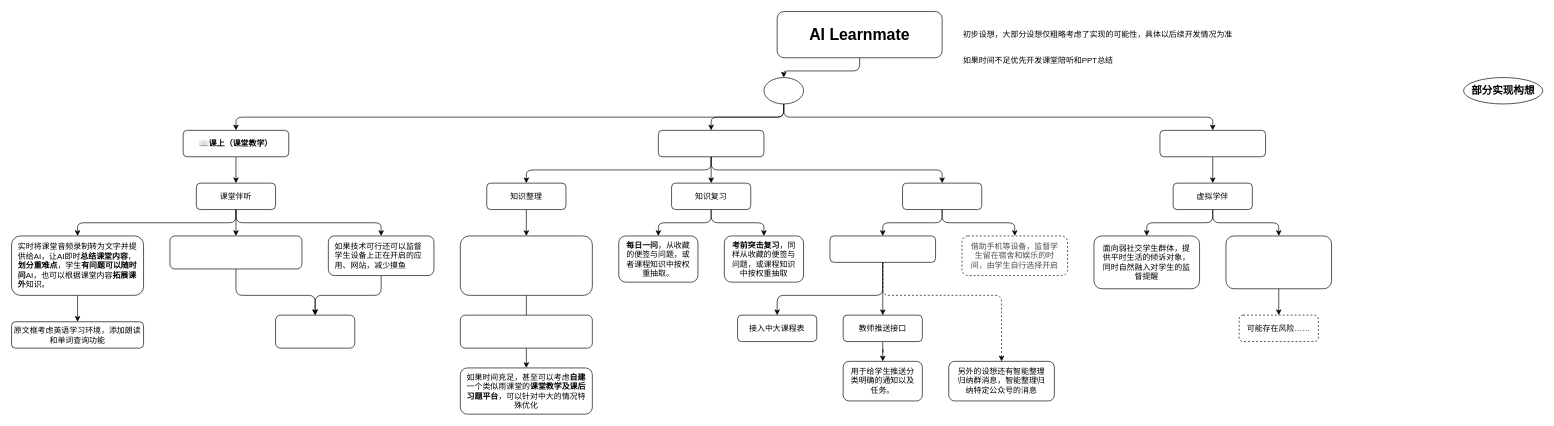
The diagram is 1554 pixels wide and 426 high, and some of its shapes have lost their labels. The box of each missing label's shape, as (x1, y1, x2, y2) in pixels:
功能: (763, 77, 804, 104)
可以考虑接入 雨课堂 ，使用雨课堂的平台实现功能: (460, 314, 592, 348)
将 PPT 转为 文档 ，由AI 总结 ，初步 划分重难点 ，随机挑选其中的 试题 或根据文档内容自创基础类题目，学生同样可以对其中内容 提问 和 拓展 。: (460, 235, 592, 295)
尊重学生选择， 由学生自行开启， （由老师开启？）: (275, 314, 355, 348)
接受心理咨询训练，解答学生的心理问题，必要时提醒相关人员: (1225, 235, 1332, 289)
时间管理: (902, 182, 982, 210)
简单TodoList: (829, 235, 936, 262)
通过针对课堂内容提问等形式减少学生分心走神的情况: (169, 235, 302, 269)
💖心理（虚拟学伴）: (1159, 130, 1266, 157)
💪课下（自我管理）: (658, 130, 764, 157)
